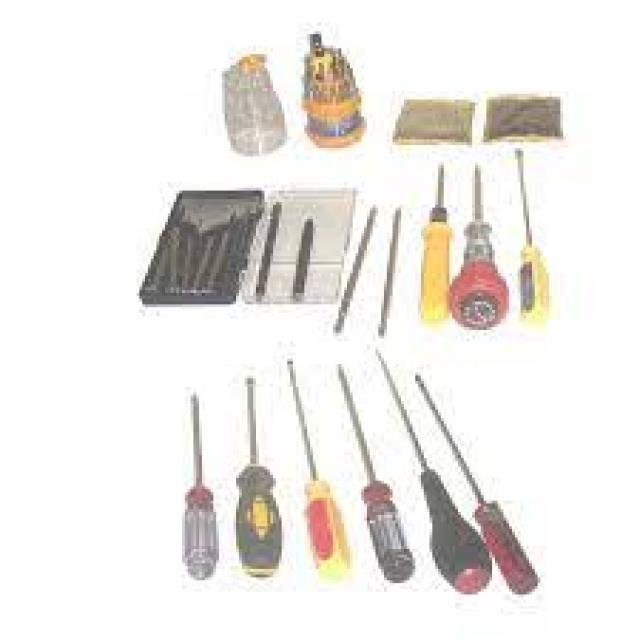screwdriver: (372, 337, 492, 599), (412, 361, 540, 600), (333, 361, 418, 586), (284, 354, 356, 588), (232, 371, 286, 585), (448, 158, 511, 332), (170, 388, 224, 585), (510, 148, 558, 333), (416, 162, 452, 327)
